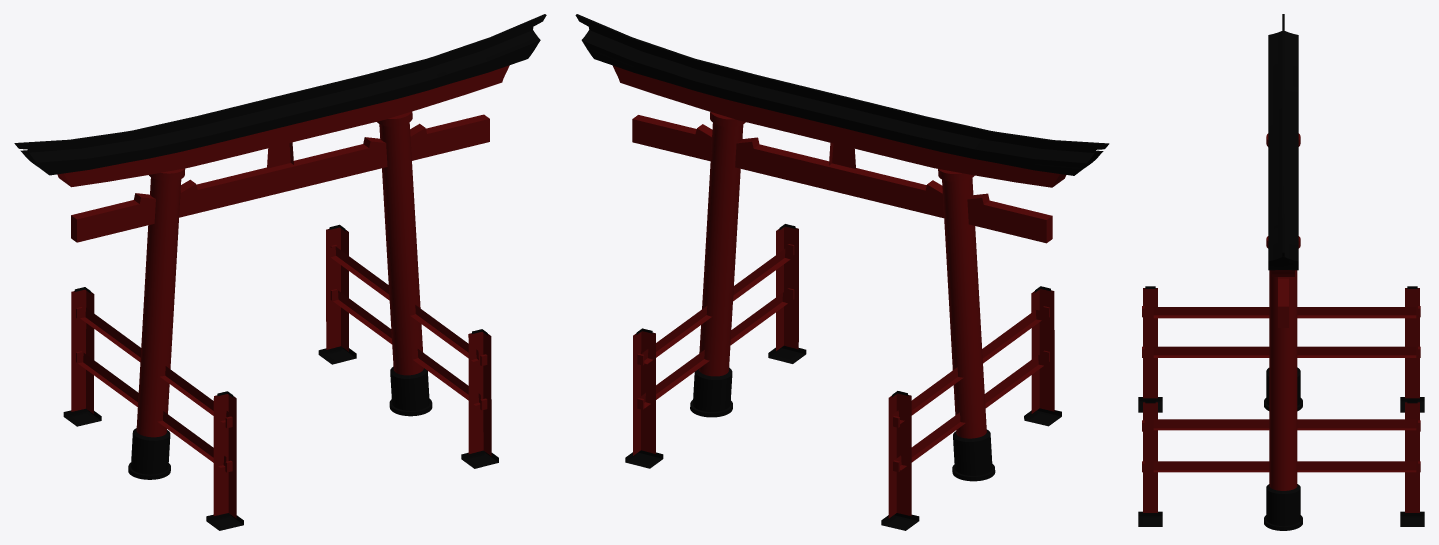
Rendered from Ryoubu_1.obj.
The picture shows the model from 3 angles, left to right: view 1: azimuth 30°, elevation 25°; view 2: azimuth 150°, elevation 25°; view 3: azimuth 270°, elevation 25°; orthographic projection. The views are drawn at different scales.
Parts seen in each view (by area): view 1: Cube.032_Cube.040; view 2: Cube.032_Cube.040; view 3: Cube.032_Cube.040.
Part boxes in pixels (bbox=[...]): Cube.032_Cube.040: bbox=[14, 14, 546, 530]; Cube.032_Cube.040: bbox=[575, 14, 1109, 530]; Cube.032_Cube.040: bbox=[1138, 14, 1424, 530].
Bounding box in the file's own units: 20.47 × 13.27 × 10.41.
